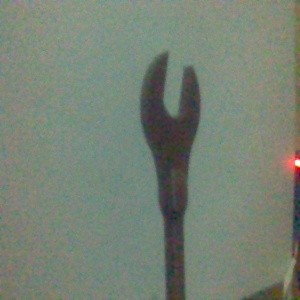spanner: (138, 50, 201, 300)
